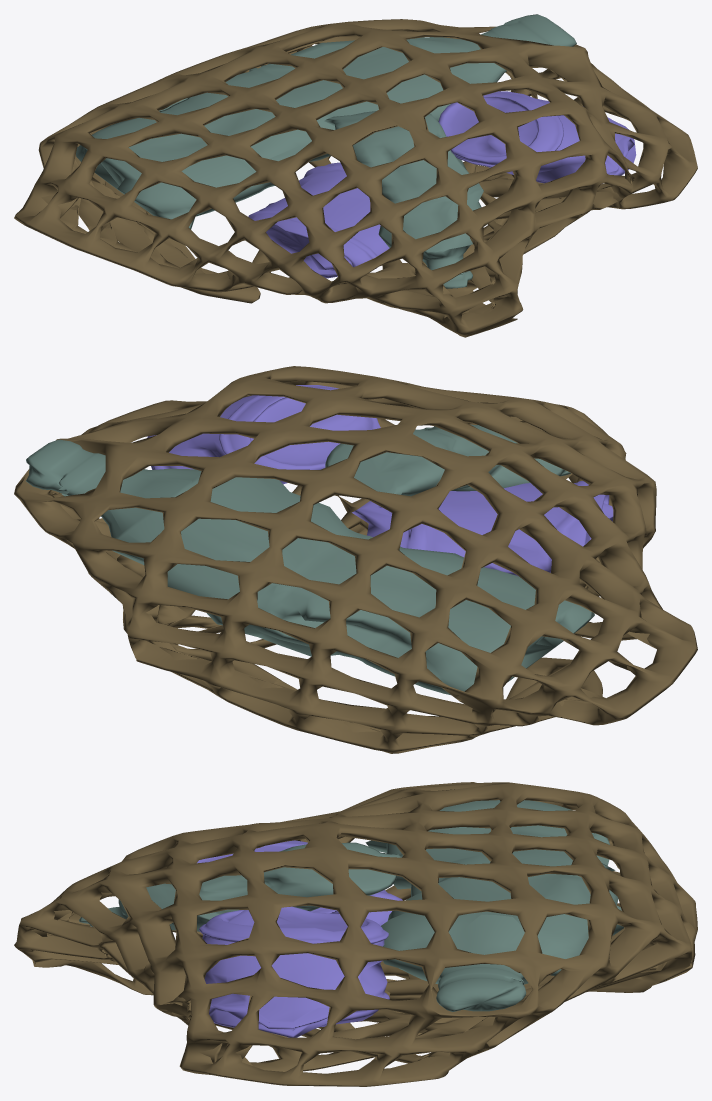
File: Trash_Trap.fbx
The picture shows the model from 3 angles, top to bottom: view 1: azimuth 30°, elevation 25°; view 2: azimuth 150°, elevation 25°; view 3: azimuth 270°, elevation 25°; orthographic projection. The views are drawn at different scales.
Parts seen in each view (by area): view 1: pasted__pasted__pCylinder3; view 2: pasted__pasted__pCylinder3; view 3: pasted__pasted__pCylinder3.
Boxes of the visible parts, x1,y1,x2,y2 form: pasted__pasted__pCylinder3: (14,14,697,337); pasted__pasted__pCylinder3: (14,366,697,753); pasted__pasted__pCylinder3: (14,782,697,1086).
Size of the model in its own units: 2.46 by 0.6486 by 2.26.
